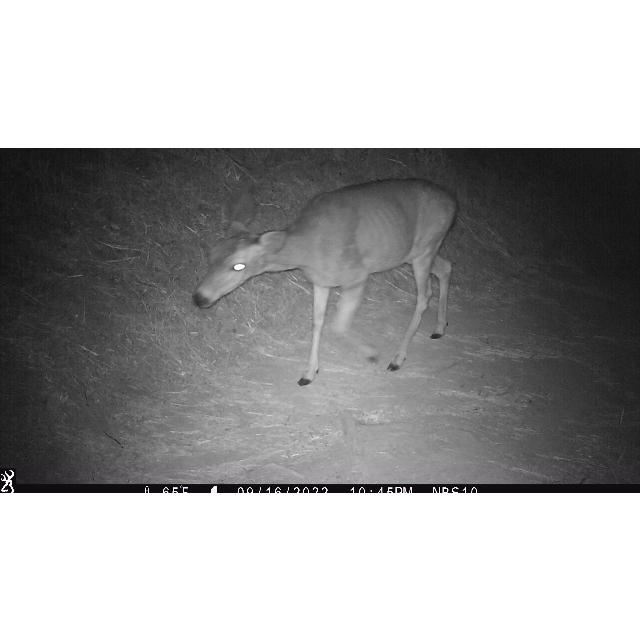animals: (192, 175, 458, 387)
